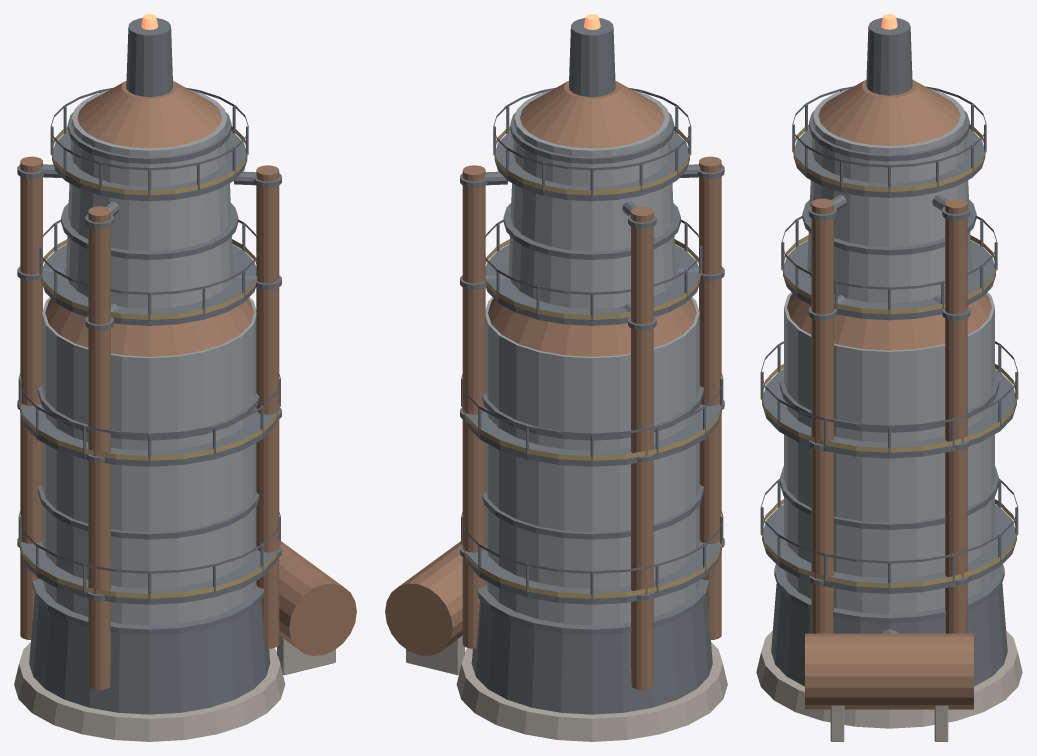
The model's file is oil_cracker.glb.
The picture shows the model from 3 angles, left to right: view 1: azimuth 30°, elevation 25°; view 2: azimuth 150°, elevation 25°; view 3: azimuth 270°, elevation 25°; orthographic projection.
Parts seen in each view (by area): view 1: ColumnLower, ColumnUpper, Skirt, Riser_215, Riser_325, Riser_145, Pad, ColumnDome, ReboilerDrum, Transition, Deck_13.6, Deck_4.6 (+17 smaller); view 2: ColumnLower, ColumnUpper, Skirt, Riser_145, Riser_35, Riser_215, Pad, ColumnDome, ReboilerDrum, Transition, Deck_13.6, Deck_4.6 (+17 smaller); view 3: ColumnLower, ColumnUpper, ReboilerDrum, Riser_35, Riser_325, Skirt, ColumnDome, Pad, Transition, Deck_4.6, Deck_9.2, Deck_13.6 (+17 smaller).
Boxes of the visible parts, <box> form: ColumnLower: <box>42,297,256,625</box>; ColumnUpper: <box>66,90,233,308</box>; Skirt: <box>29,594,270,714</box>; Riser_215: <box>88,206,110,689</box>; Riser_325: <box>256,165,279,648</box>; Riser_145: <box>20,156,42,639</box>; Pad: <box>14,642,285,741</box>; ColumnDome: <box>77,80,221,148</box>; ReboilerDrum: <box>279,541,356,655</box>; Transition: <box>45,298,253,356</box>; Deck_13.6: <box>41,244,256,325</box>; Deck_4.6: <box>20,541,276,604</box>; ColumnLower: <box>485,297,699,625</box>; ColumnUpper: <box>508,90,675,308</box>; Skirt: <box>471,594,712,714</box>; Riser_145: <box>631,206,653,689</box>; Riser_35: <box>462,165,485,648</box>; Riser_215: <box>699,156,721,639</box>; Pad: <box>456,642,727,741</box>; ColumnDome: <box>520,80,664,148</box>; ReboilerDrum: <box>385,541,462,655</box>; Transition: <box>488,298,696,356</box>; Deck_13.6: <box>485,244,700,325</box>; Deck_4.6: <box>465,541,721,604</box>; ColumnLower: <box>784,292,994,614</box>; ColumnUpper: <box>807,88,971,303</box>; ReboilerDrum: <box>805,633,973,709</box>; Riser_35: <box>945,198,967,633</box>; Riser_325: <box>811,198,833,633</box>; Skirt: <box>771,583,1007,686</box>; ColumnDome: <box>818,79,960,145</box>; Pad: <box>756,630,1022,728</box>; Transition: <box>787,293,991,350</box>; Deck_4.6: <box>762,504,1016,593</box>; Deck_9.2: <box>762,369,1016,458</box>; Deck_13.6: <box>783,240,995,320</box>.
Size of the model in its own units: 9.83 by 22.27 by 8.2.
